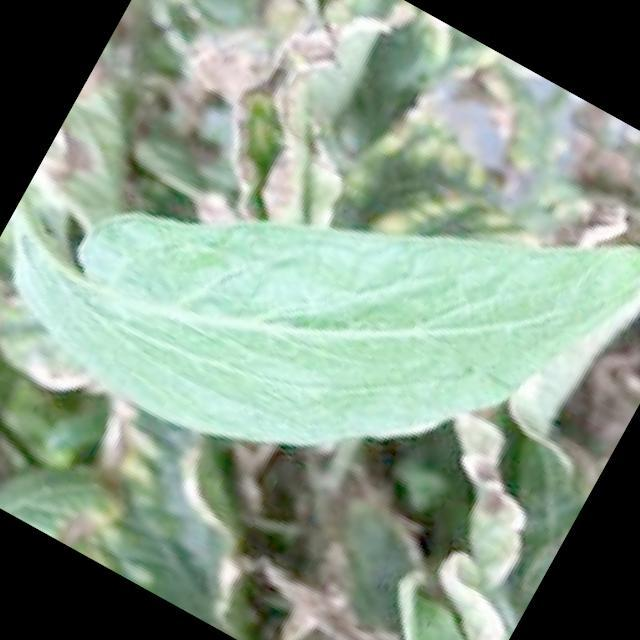Tomato healthy leaf: (12, 188, 640, 448)
